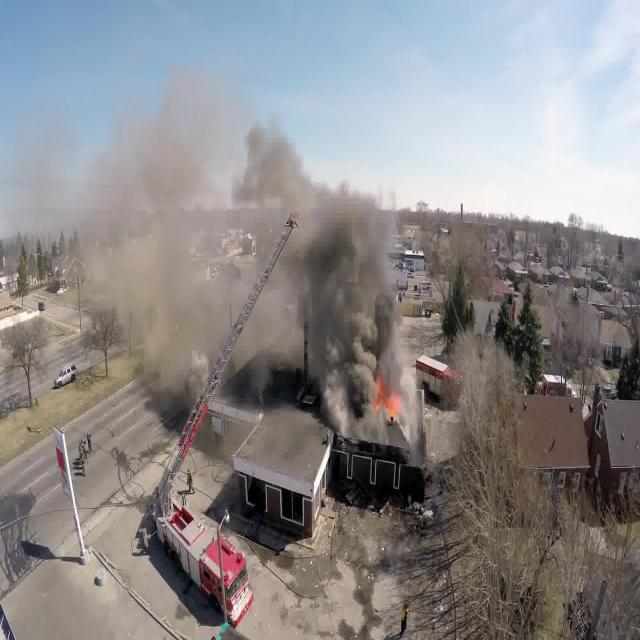Fire: (166, 552, 394, 638)
Smoke: (50, 142, 402, 346), (316, 349, 382, 446)
